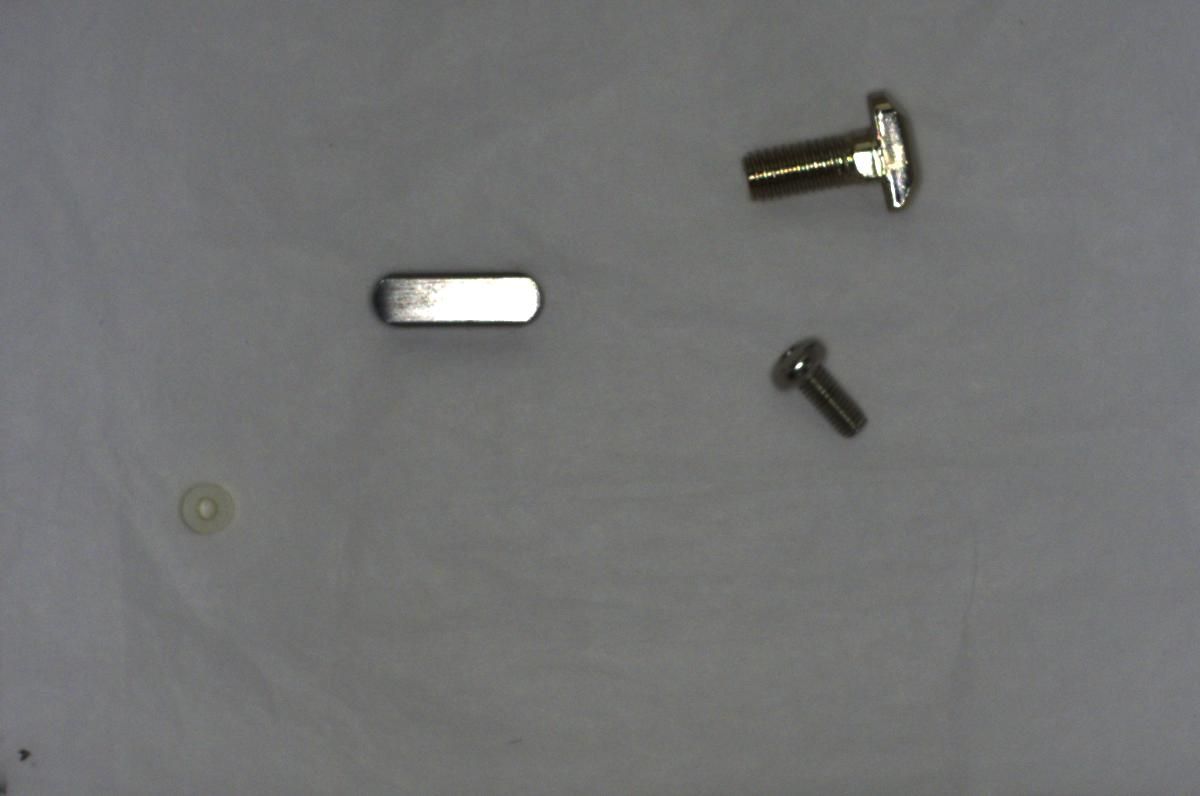Keybar: (360, 255, 550, 335)
Plastic cushion pillar: (172, 470, 244, 543)
Round head screw: (770, 332, 866, 438)
T-shaped screw: (735, 80, 924, 214)
